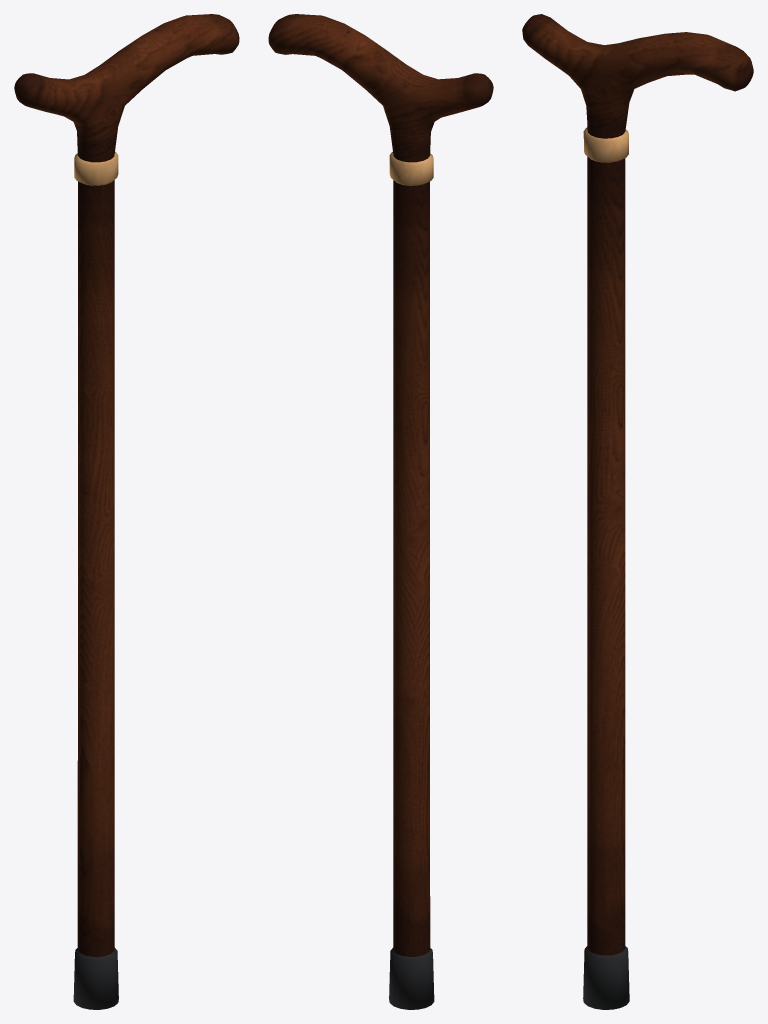
3 views of the same model, side by side, from view 1: azimuth 30°, elevation 25°; view 2: azimuth 150°, elevation 25°; view 3: azimuth 330°, elevation 25° (orthographic). The views are drawn at different scales.
Visible parts, largest first — view 1: Cylinder; view 2: Cylinder; view 3: Cylinder.
Boxes of the visible parts, <box> form: Cylinder: <box>14,14,239,1009</box>; Cylinder: <box>268,14,493,1009</box>; Cylinder: <box>522,14,753,1009</box>.
Size of the model in its own units: 65.66 by 277 by 11.96.
Materials: 4 (4 with a texture image).
